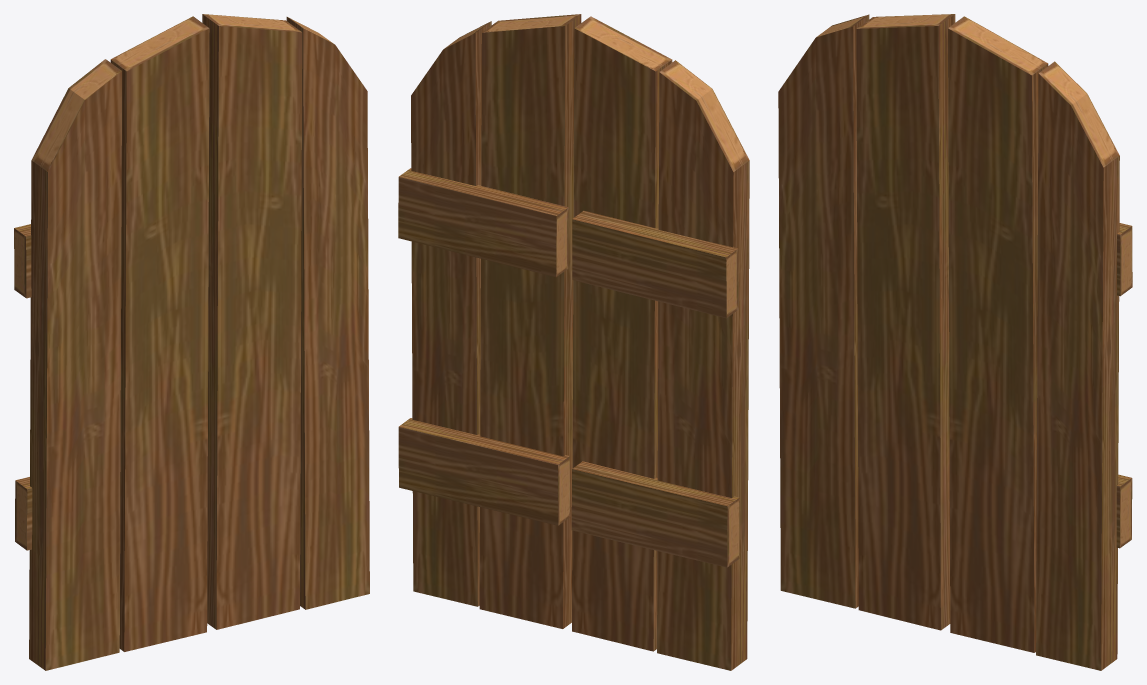
Rendered from window-qm-windowshuttersthinroundclosed.glb.
3 views of the same model, side by side, from view 1: azimuth 30°, elevation 25°; view 2: azimuth 150°, elevation 25°; view 3: azimuth 330°, elevation 25° (orthographic).
Visible parts, largest first — view 1: Cube_184; view 2: Cube_184; view 3: Cube_184.
Part boxes in pixels (x1,y1,x2,y2): Cube_184: (14,14,369,670); Cube_184: (398,14,749,670); Cube_184: (778,14,1132,670).
Size of the model in its own units: 0.8674 by 1.52 by 0.1358.
Materials: 1 (1 with a texture image).
